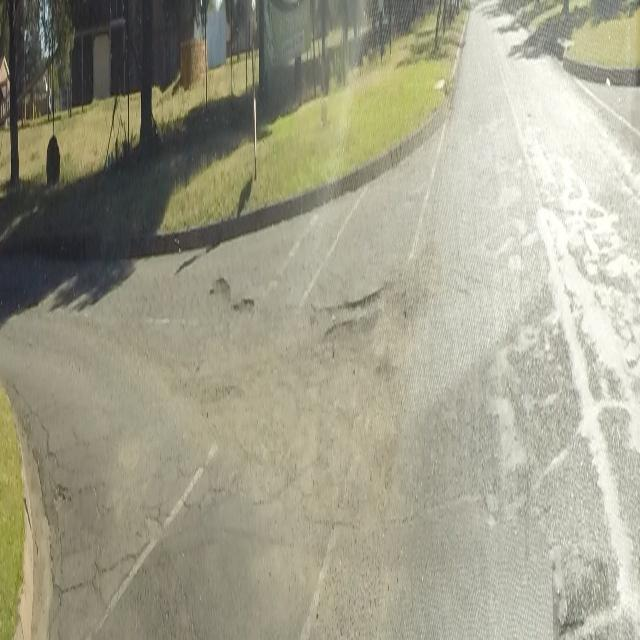pothole: (316, 280, 390, 346), (208, 271, 259, 318)
